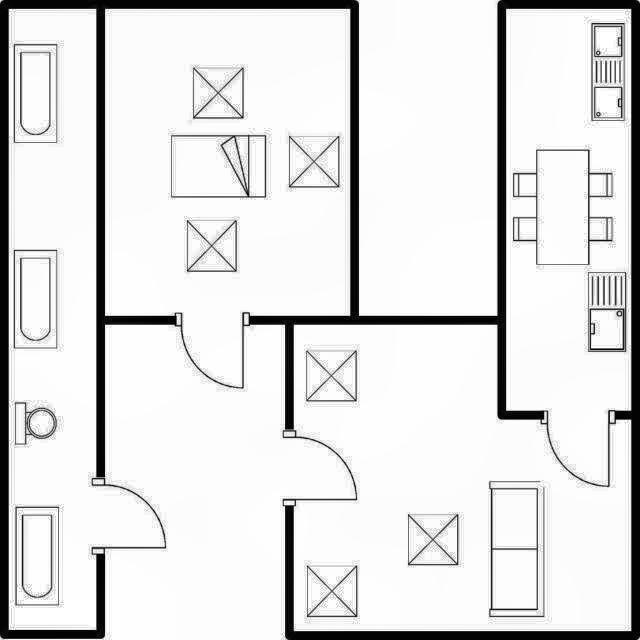room: (294, 325, 631, 631), (105, 9, 350, 316), (9, 9, 96, 630), (506, 9, 631, 411)
